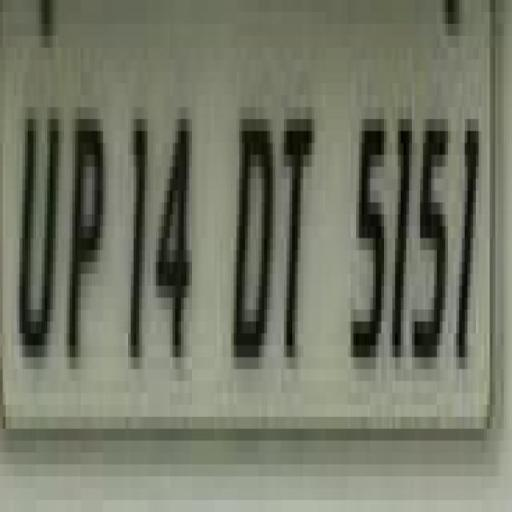number plate: (0, 0, 490, 500)
